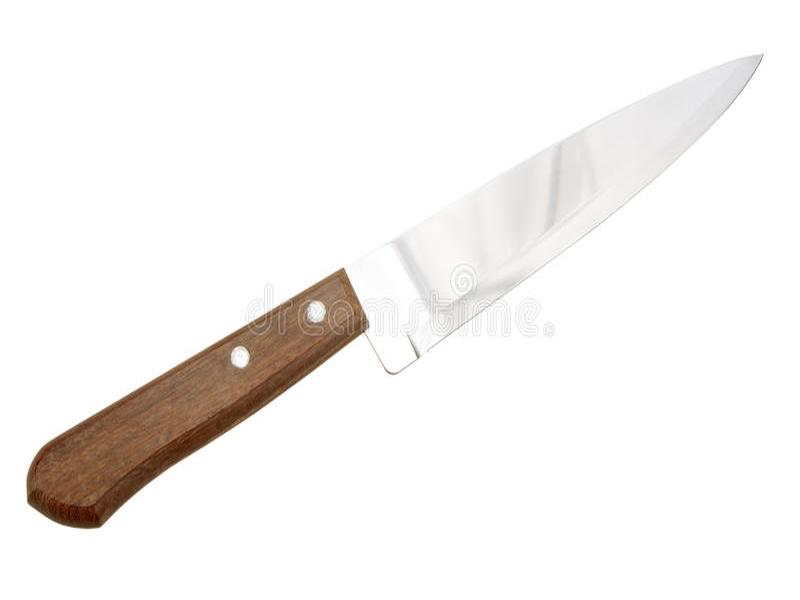KNIFE: (22, 51, 768, 534)
